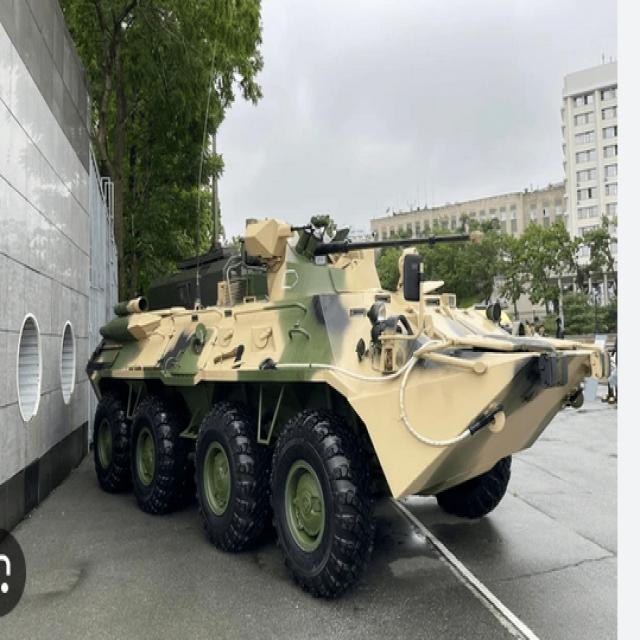MIL_APC: (78, 233, 613, 591)
